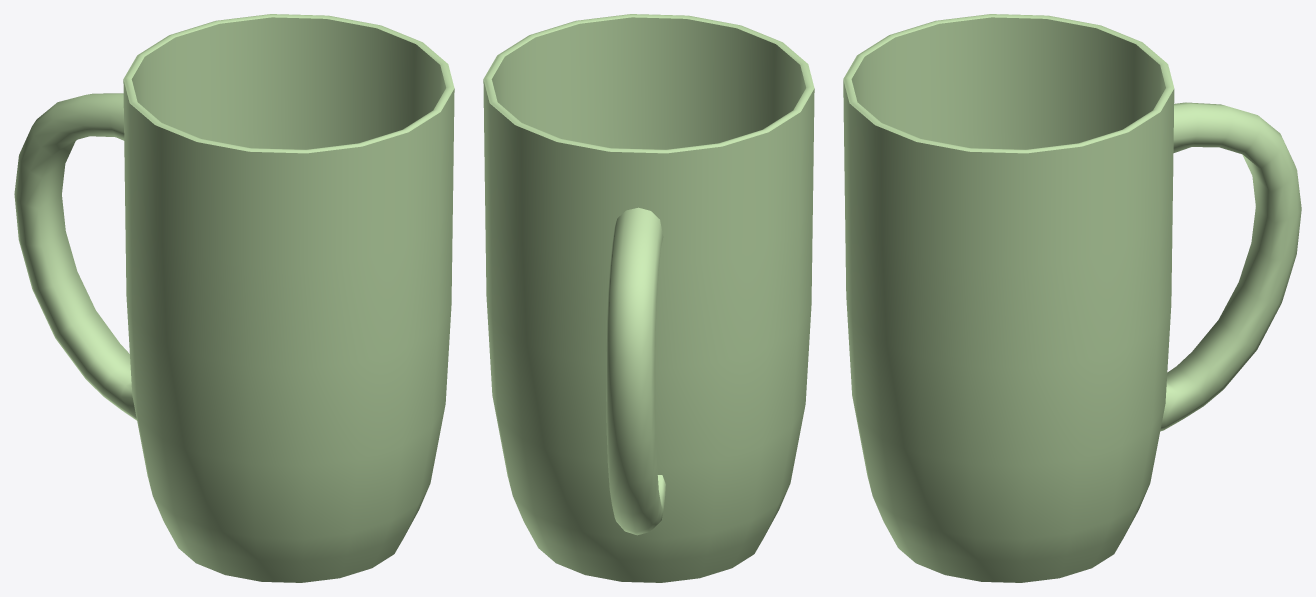
The model's file is beizi.fbx.
3 views of the same model, side by side, from view 1: azimuth 30°, elevation 25°; view 2: azimuth 150°, elevation 25°; view 3: azimuth 270°, elevation 25° (orthographic).
Visible parts, largest first — view 1: Cylinder001; view 2: Cylinder001; view 3: Cylinder001.
Part boxes in pixels (left/top/right/bottom): Cylinder001: left=14, top=14, right=454, bottom=582; Cylinder001: left=483, top=14, right=814, bottom=582; Cylinder001: left=843, top=14, right=1301, bottom=582.
Size of the model in its own units: 1.4 by 2.12 by 1.95.
